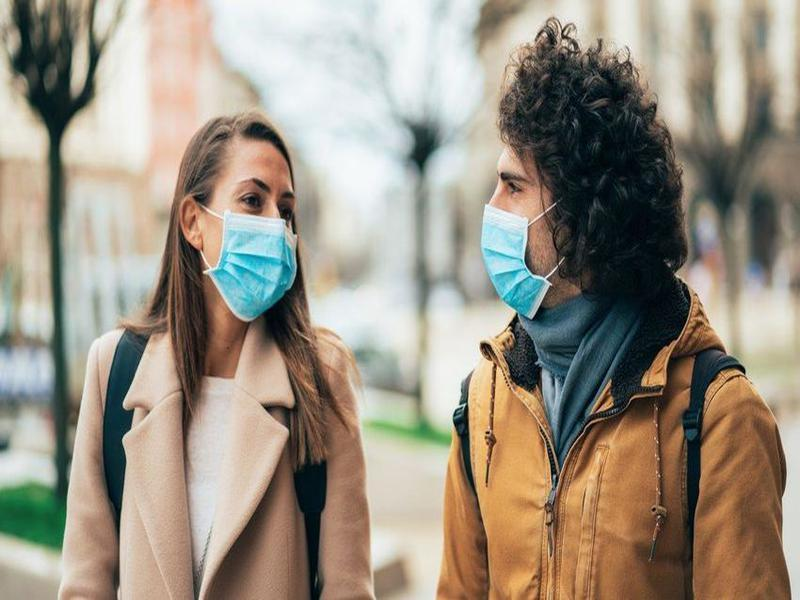mask: (198, 204, 311, 317), (482, 194, 540, 311)
